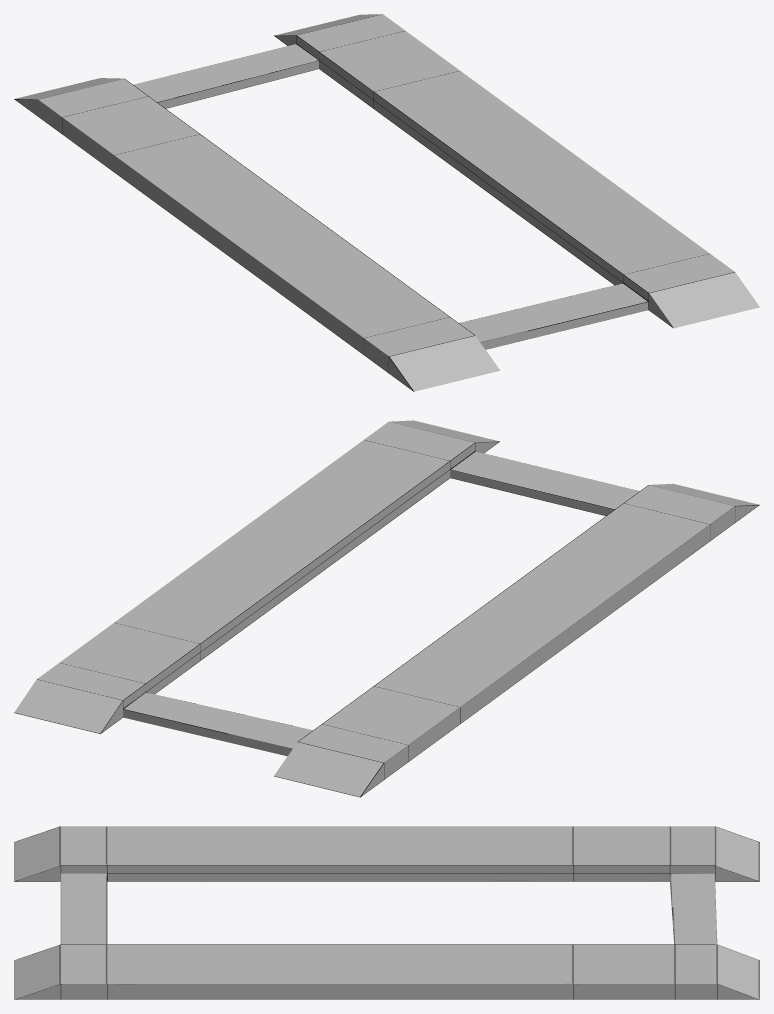
Rendered from car_platform.obj.
3 renders of one model, top to bottom at view 1: azimuth 30°, elevation 25°; view 2: azimuth 150°, elevation 25°; view 3: azimuth 270°, elevation 25°, orthographic. The views are drawn at different scales.
Parts seen in each view (by area): view 1: car_platform_Cube; view 2: car_platform_Cube; view 3: car_platform_Cube.
Boxes of the visible parts, left/top/right/bottom form: car_platform_Cube: left=14, top=14, right=759, bottom=391; car_platform_Cube: left=14, top=420, right=759, bottom=797; car_platform_Cube: left=14, top=826, right=759, bottom=999.
Size of the model in its own units: 2 by 0.0942 by 4.
Materials: 1 (1 with a texture image).
